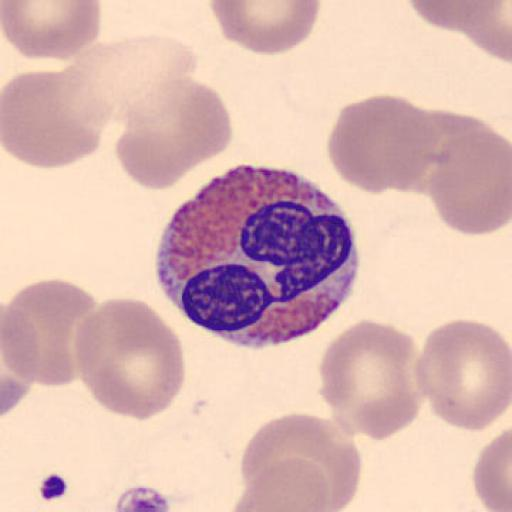RBC: (78, 31, 204, 172), (74, 297, 186, 422), (114, 77, 234, 191), (318, 319, 424, 441), (2, 60, 116, 170), (240, 412, 363, 512), (83, 32, 200, 133), (326, 93, 441, 195), (413, 318, 511, 432), (426, 108, 512, 237), (3, 277, 99, 387), (407, 0, 512, 65), (209, 0, 322, 56), (2, 0, 103, 62), (229, 457, 333, 512), (0, 303, 38, 419), (452, 0, 512, 65), (406, 0, 505, 35), (472, 426, 512, 512), (228, 478, 314, 512)
WBC: (154, 161, 364, 348)
